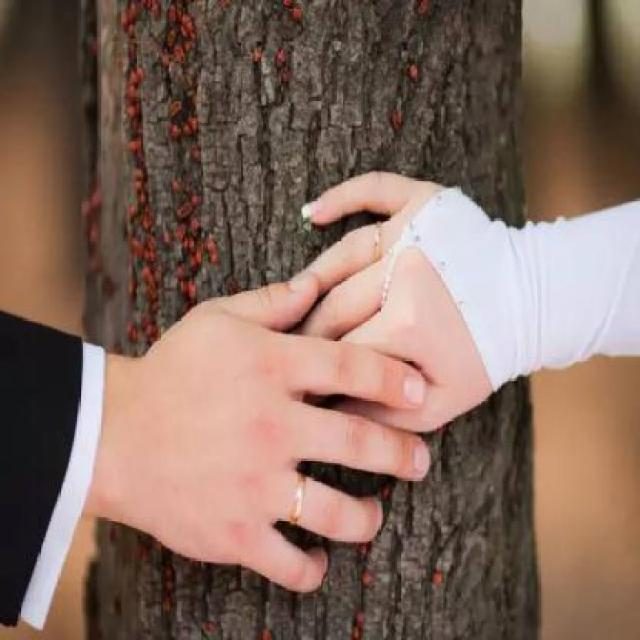hand_noglove: (132, 270, 432, 596), (291, 168, 507, 444)
